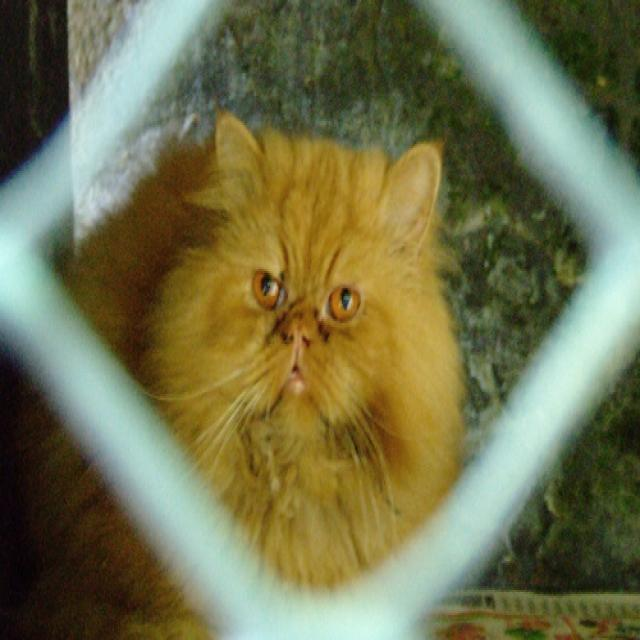cat: (1, 107, 471, 639)
